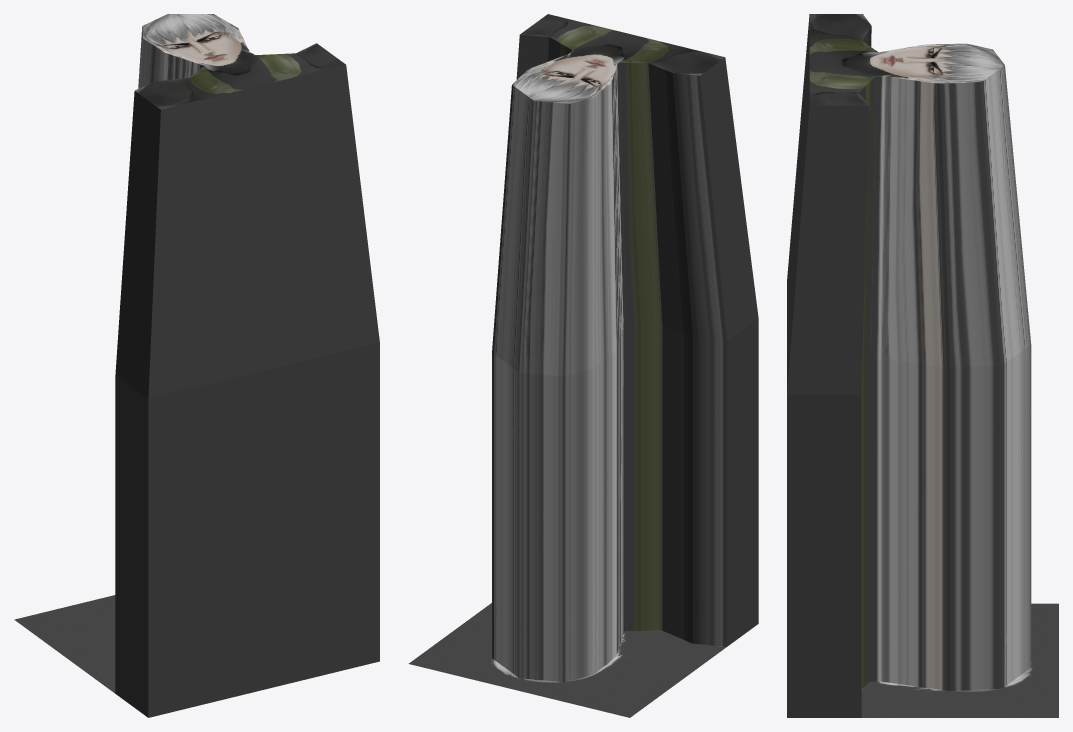
File: bsguy1.glb
The picture shows the model from 3 angles, left to right: view 1: azimuth 30°, elevation 25°; view 2: azimuth 150°, elevation 25°; view 3: azimuth 270°, elevation 25°; orthographic projection. The views are drawn at different scales.
Parts seen in each view (by area): view 1: Screenshot 2025-09-12 183337; view 2: Screenshot 2025-09-12 183337; view 3: Screenshot 2025-09-12 183337.
Boxes of the visible parts, left/top/right/bottom form: Screenshot 2025-09-12 183337: left=14, top=14, right=379, bottom=717; Screenshot 2025-09-12 183337: left=408, top=14, right=758, bottom=717; Screenshot 2025-09-12 183337: left=787, top=14, right=1058, bottom=717.
Size of the model in its own units: 0.9949 by 2.44 by 1.
1 material, 1 textured.
